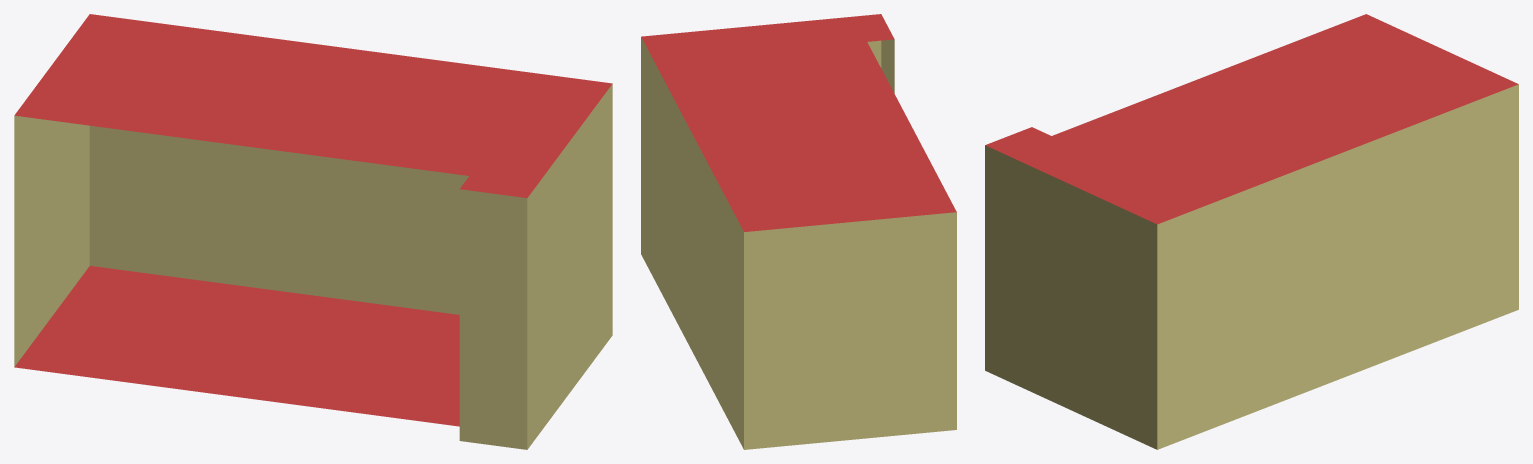
The picture shows the model from 3 angles, left to right: view 1: azimuth 30°, elevation 25°; view 2: azimuth 150°, elevation 25°; view 3: azimuth 270°, elevation 25°; orthographic projection. The views are drawn at different scales.
Size of the model in its own units: 10.99 by 11.77 by 5.49.
